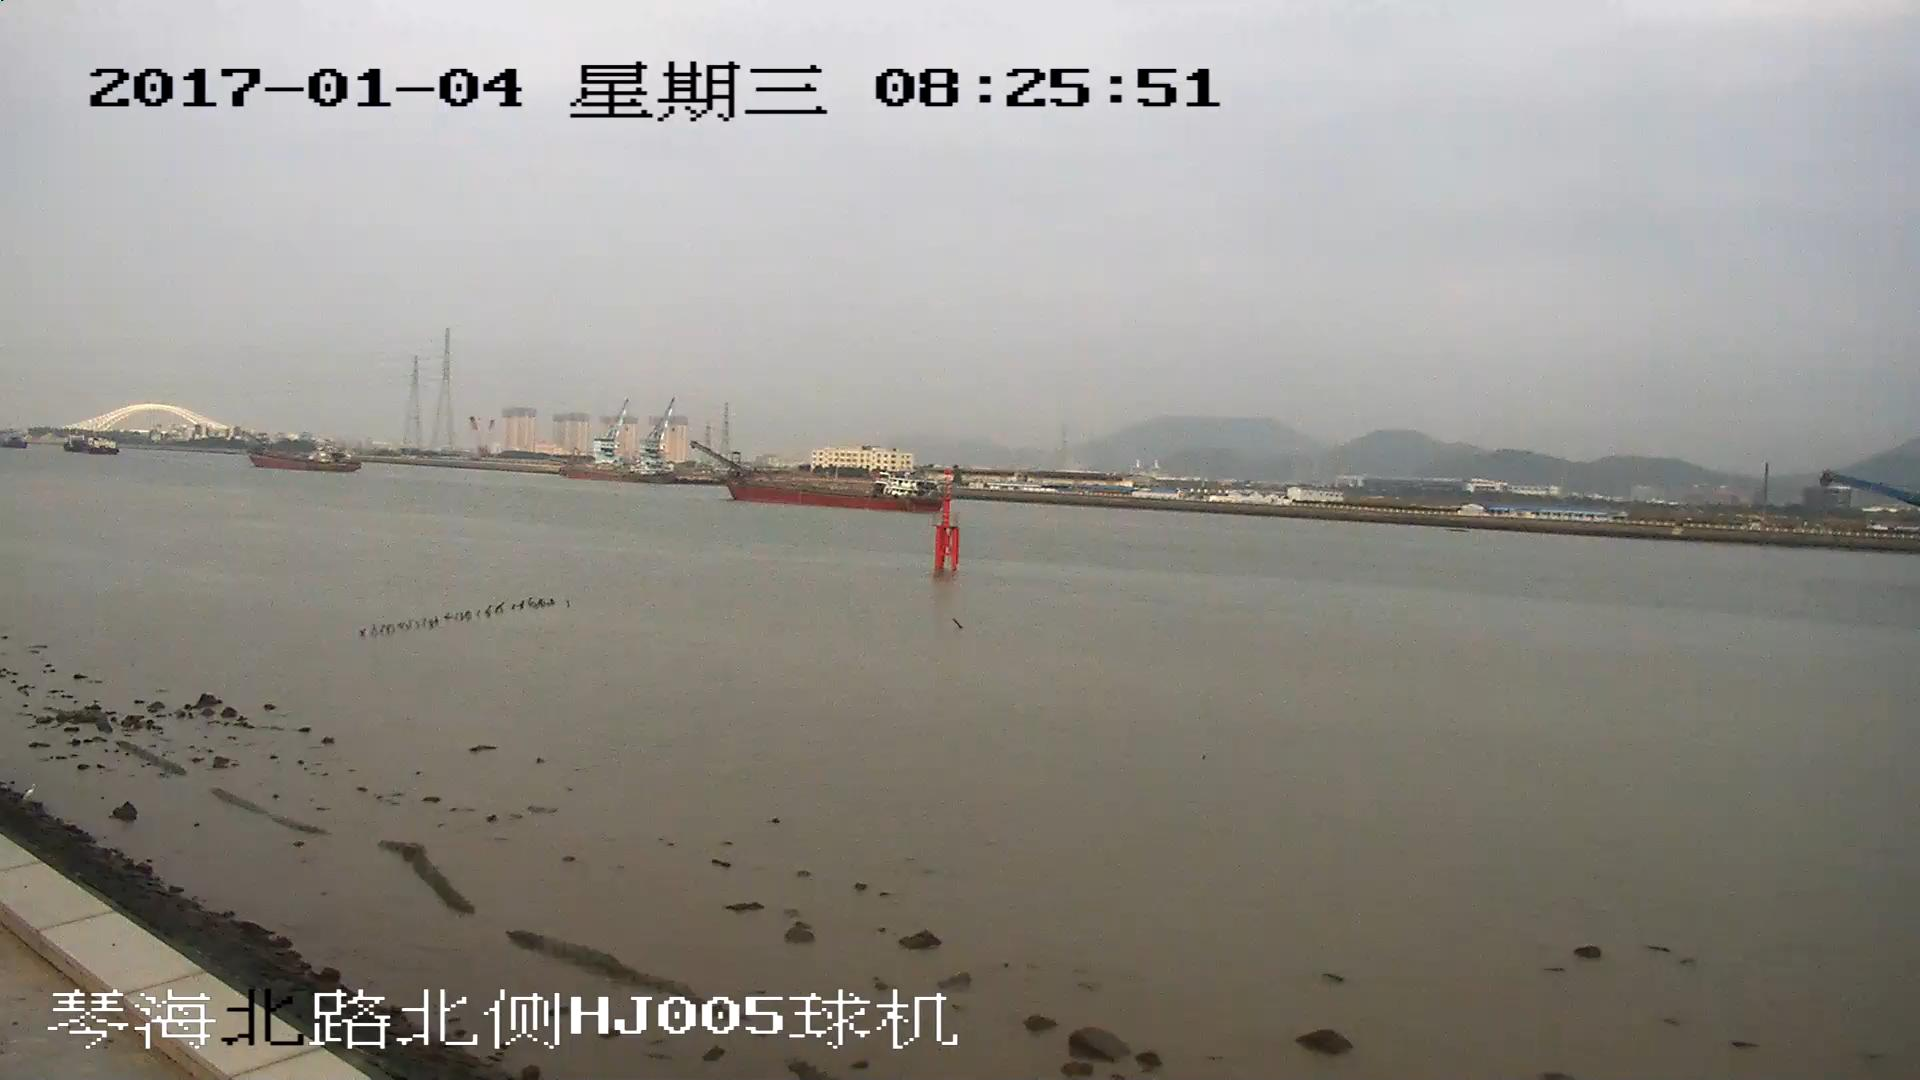bulk cargo carrier: (692, 438, 946, 508)
